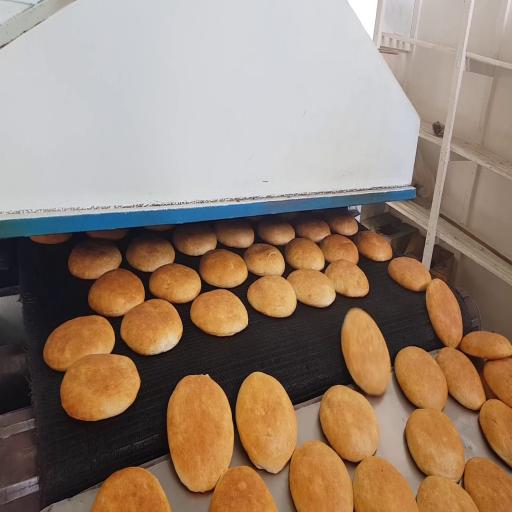bread: (167, 375, 233, 492), (236, 372, 297, 473), (60, 354, 140, 420), (320, 385, 379, 462), (290, 441, 353, 511), (341, 309, 391, 395), (406, 409, 465, 481), (44, 316, 114, 371), (91, 467, 171, 511), (353, 457, 418, 511), (121, 299, 182, 355), (395, 347, 447, 410), (436, 348, 485, 410), (210, 466, 277, 511), (88, 269, 144, 317), (190, 290, 248, 336), (464, 458, 511, 511), (426, 279, 462, 347), (479, 400, 511, 467), (417, 476, 478, 511), (68, 239, 121, 279), (149, 264, 201, 303), (248, 276, 296, 317), (199, 249, 247, 288), (288, 269, 335, 307), (126, 237, 175, 272), (325, 260, 369, 297), (388, 257, 431, 291), (460, 331, 511, 359), (173, 223, 216, 255), (484, 357, 511, 407), (243, 244, 285, 275), (285, 238, 324, 270), (355, 231, 392, 261), (215, 220, 254, 248), (320, 235, 358, 263), (258, 219, 295, 245), (295, 218, 331, 243), (326, 212, 358, 236), (479, 367, 497, 399), (86, 229, 128, 240), (30, 234, 71, 244), (146, 225, 174, 231), (279, 212, 300, 220), (246, 216, 264, 223)
